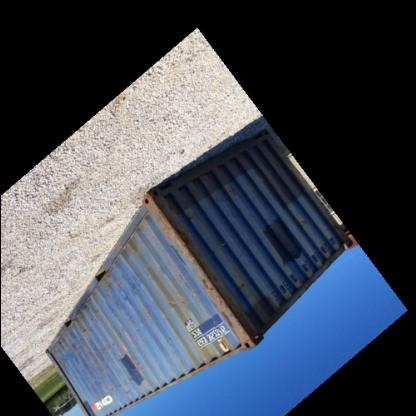Damage: (153, 209, 195, 266), (205, 297, 247, 337), (160, 285, 199, 315), (121, 272, 145, 312), (114, 372, 138, 400), (89, 343, 110, 370), (92, 272, 108, 299), (73, 312, 86, 342), (120, 240, 134, 262), (57, 366, 70, 382)
